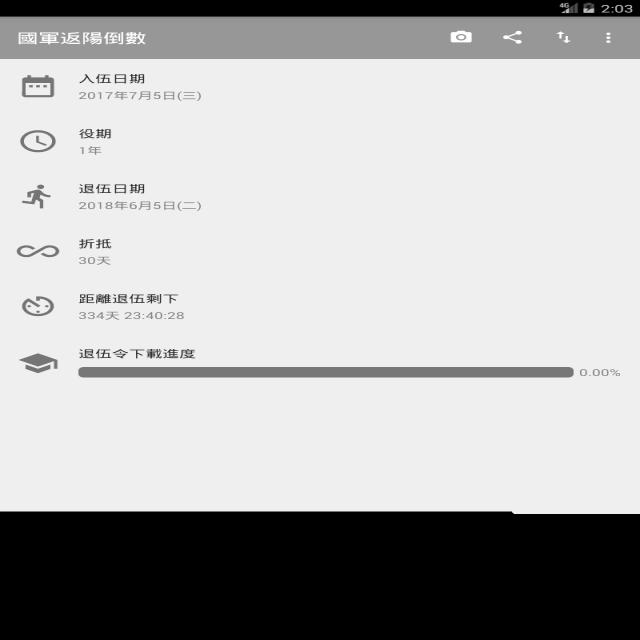ImageButton: (446, 26, 480, 47), (498, 26, 529, 48), (547, 27, 577, 48), (598, 28, 616, 48)
ImageView: (13, 124, 58, 156), (14, 349, 64, 376), (18, 72, 58, 102), (14, 240, 64, 262), (18, 292, 58, 319), (18, 183, 56, 211)
ProgressBar: (71, 362, 627, 382)
TextView: (76, 68, 210, 105), (74, 179, 210, 215), (72, 289, 192, 323), (11, 27, 152, 49), (70, 341, 200, 359), (72, 124, 118, 158), (73, 234, 116, 268)
